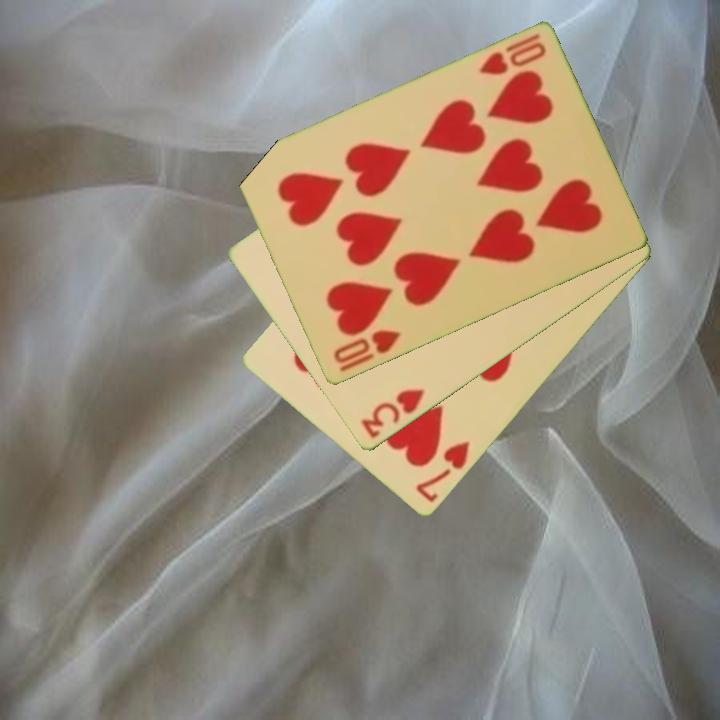10h: (329, 326, 404, 376), (475, 31, 549, 79)
3h: (357, 385, 428, 442)
7h: (412, 438, 473, 507)
